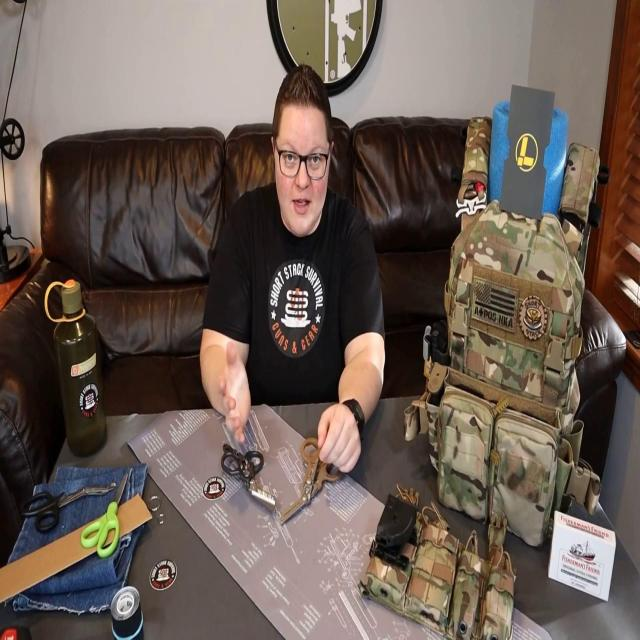scissor: (280, 438, 344, 524), (19, 481, 115, 533), (82, 470, 128, 558), (221, 442, 276, 512)
